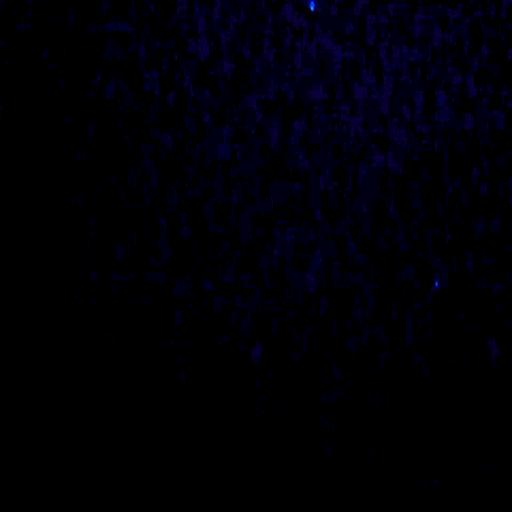object-detection-project: (309, 0, 316, 11)
